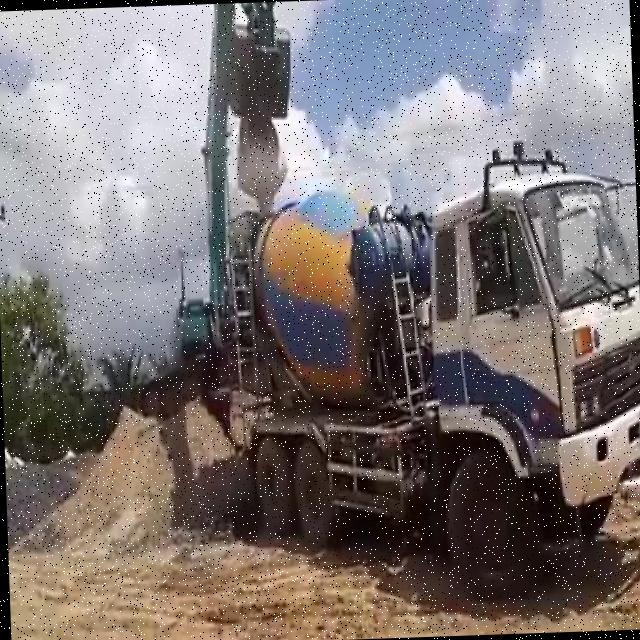Excavator: (123, 1, 301, 426)
